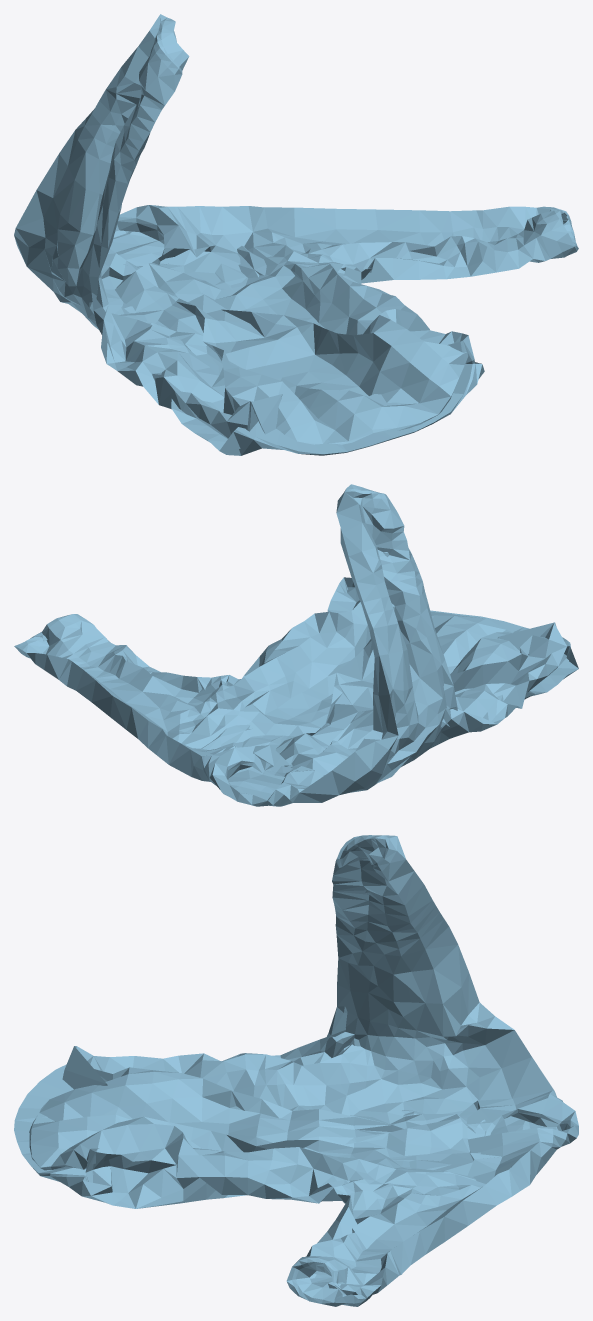
The model's file is frame_14.glb.
3 renders of one model, top to bottom at view 1: azimuth 30°, elevation 25°; view 2: azimuth 150°, elevation 25°; view 3: azimuth 270°, elevation 25°, orthographic. The views are drawn at different scales.
Visible parts, largest first — view 1: frame_14.obj; view 2: frame_14.obj; view 3: frame_14.obj.
Boxes of the visible parts, bbox=[...] form: frame_14.obj: bbox=[14, 14, 578, 455]; frame_14.obj: bbox=[14, 484, 578, 806]; frame_14.obj: bbox=[14, 835, 578, 1306].
Size of the model in its own units: 1.4 by 0.8373 by 1.39.
